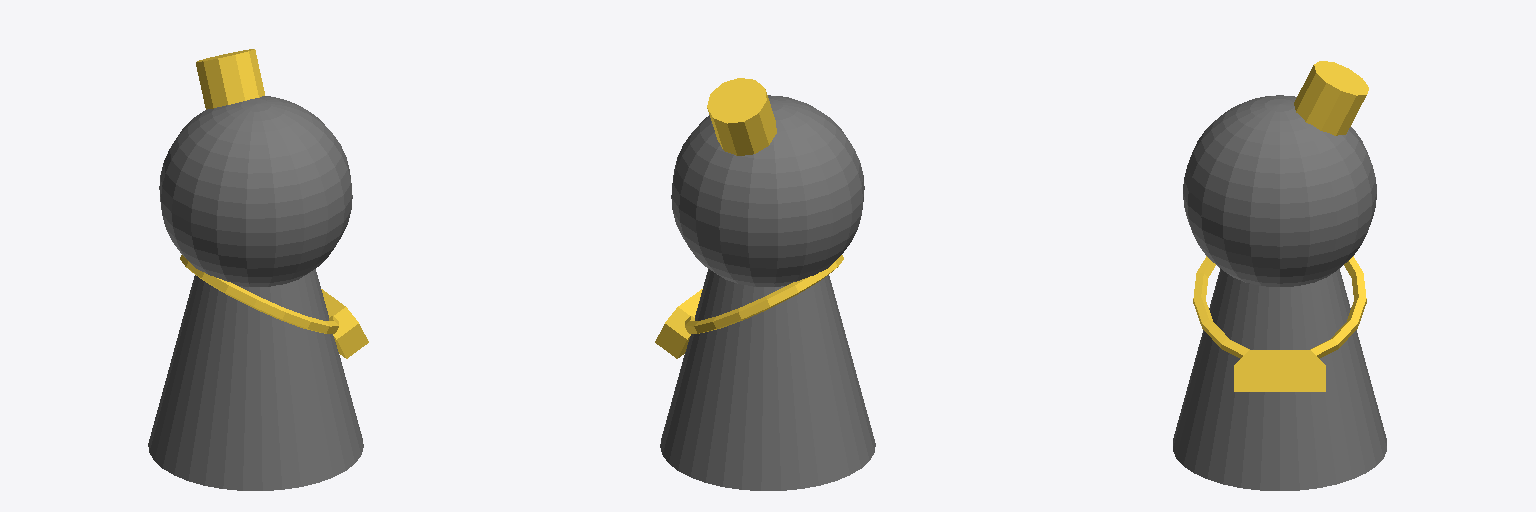
The model's file is child.obj.
The picture shows the model from 3 angles: view 1: azimuth 30°, elevation 25°; view 2: azimuth 150°, elevation 25°; view 3: azimuth 270°, elevation 25°; orthographic projection.
Parts seen in each view (by area): view 1: pCylinder1, pSphere1, pCylinder2, pTorus1, pCube1; view 2: pCylinder1, pSphere1, pCylinder2, pTorus1, pCube1; view 3: pCylinder1, pSphere1, pCylinder2, pCube1, pTorus1.
Part boxes in pixels (x1,y1,x2,y2): pCylinder1: (148, 269, 363, 490); pSphere1: (159, 96, 352, 286); pCylinder2: (196, 49, 264, 109); pTorus1: (180, 255, 338, 333); pCube1: (321, 289, 368, 358); pCylinder1: (660, 269, 875, 490); pSphere1: (671, 95, 864, 286); pCylinder2: (707, 78, 776, 155); pTorus1: (685, 255, 843, 333); pCube1: (655, 289, 702, 358); pCylinder1: (1173, 268, 1386, 490); pSphere1: (1183, 95, 1376, 286); pCylinder2: (1294, 61, 1368, 135); pCube1: (1234, 350, 1325, 391); pTorus1: (1193, 256, 1366, 358).
Size of the model in its own units: 1.32 by 2.55 by 1.31.